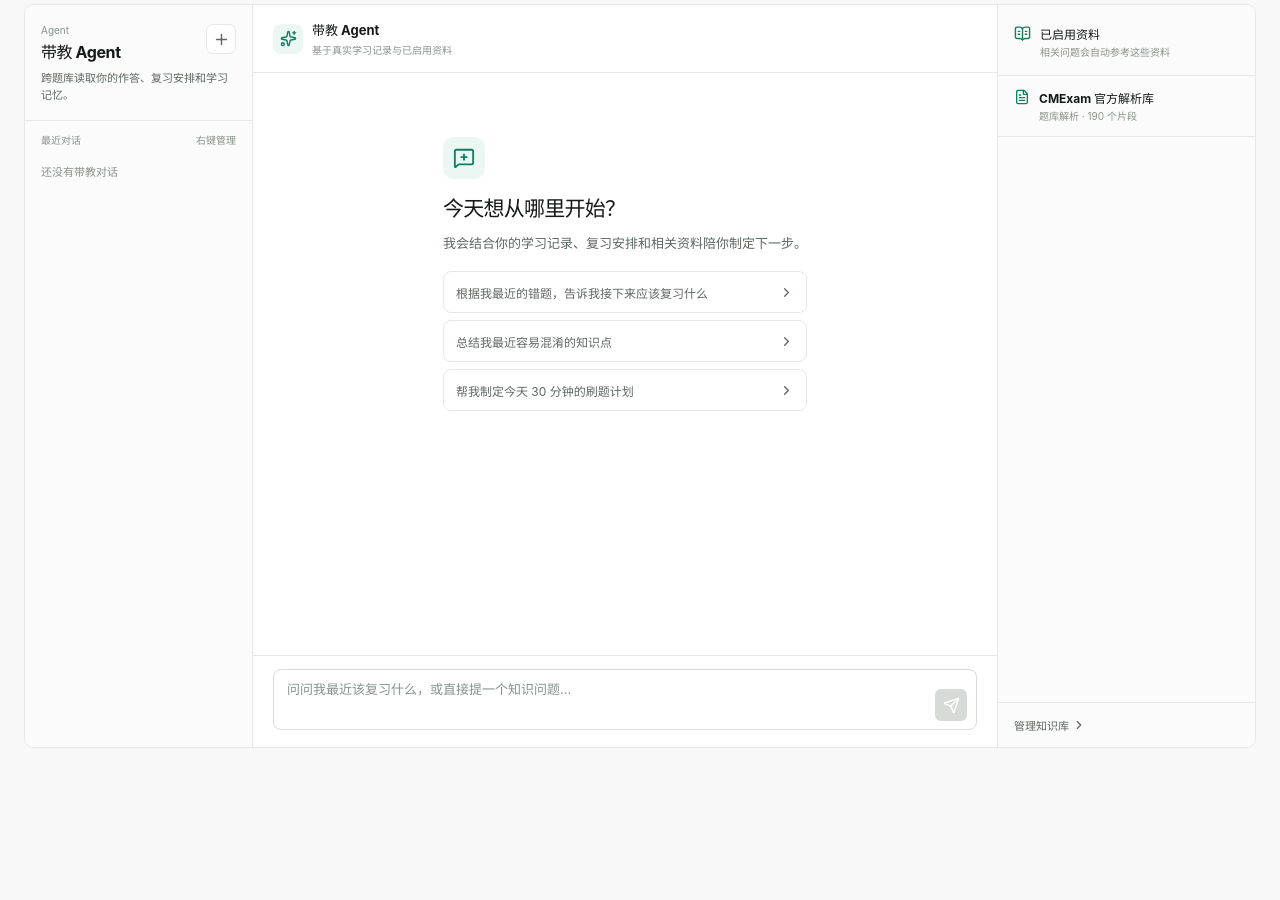
Test: Stage 1 page contracts › creates a persistent Mentor conversation and renders real activity output
This screenshot has width=1280, height=900.
Expected: the text "CMExam 官方解析库" is shown, [1039,88,1154,106]
Type "我今天应该先复习什么？" into the text box named "向带教 Agent 提问" at (606, 700), box [285,678,927,721]
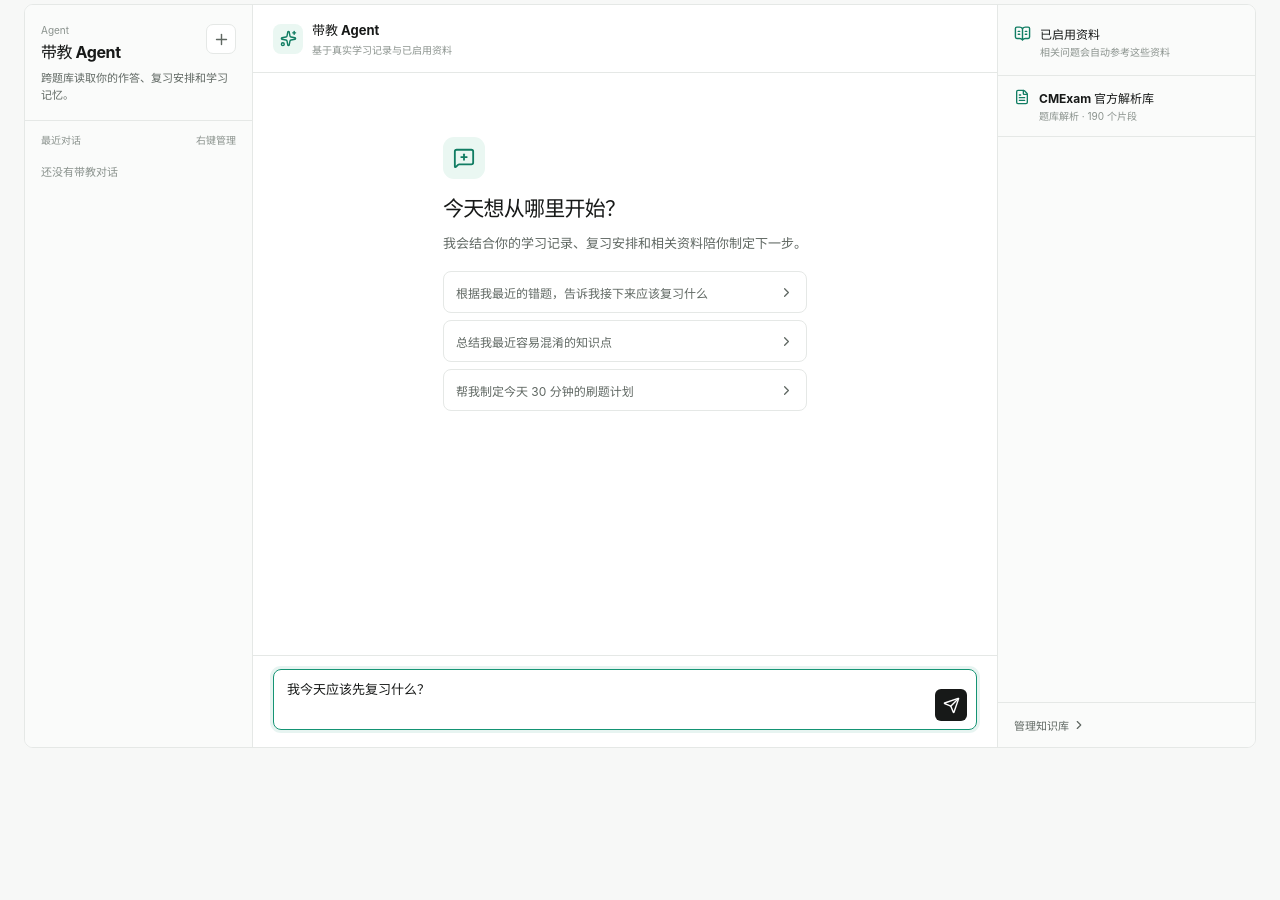
Click the button named "发送给带教 Agent" at (951, 705), box [935,689,967,721]
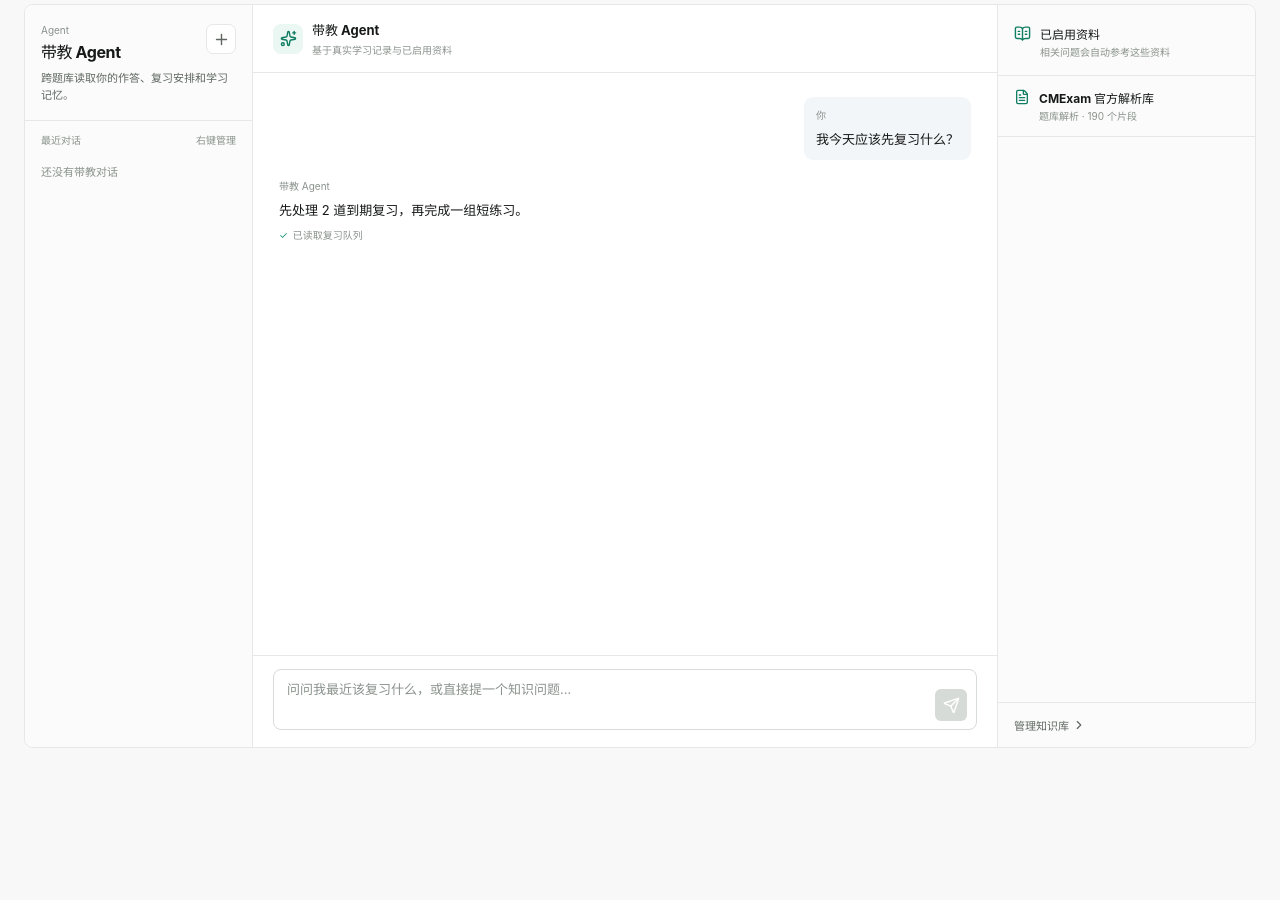
Now the text "先处理 2 道到期复习，再完成一组短练习。" is shown, box [279,202,528,218]
Now the heading "已读取复习队列" is shown, box [293,229,363,241]
